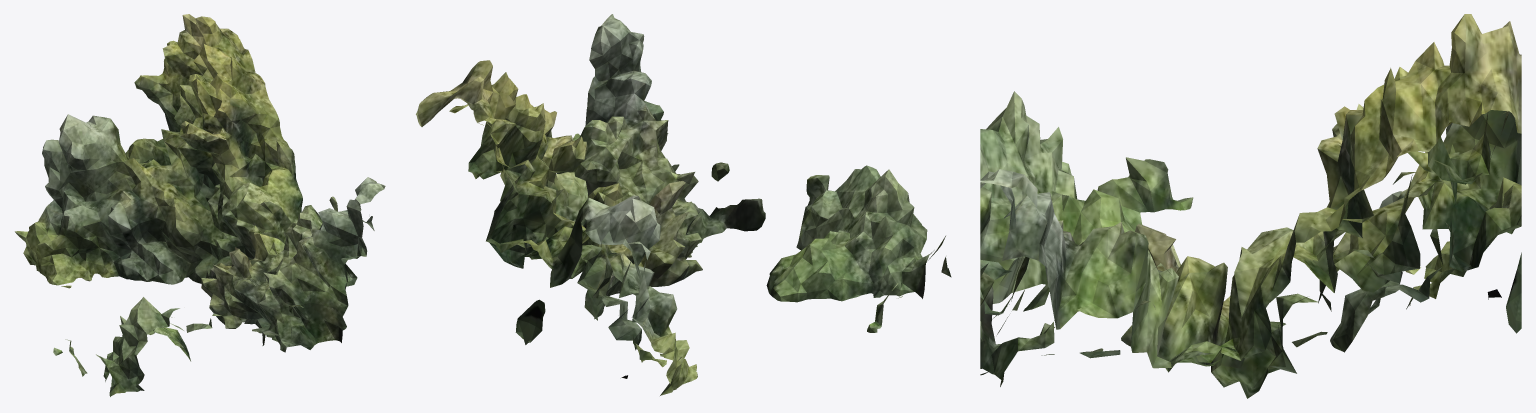
The picture shows the model from 3 angles, left to right: view 1: azimuth 30°, elevation 25°; view 2: azimuth 150°, elevation 25°; view 3: azimuth 270°, elevation 25°; orthographic projection. The views are drawn at different scales.
Size of the model in its own units: 23.6 by 18.37 by 23.6.
Materials: 4 (4 with a texture image).
